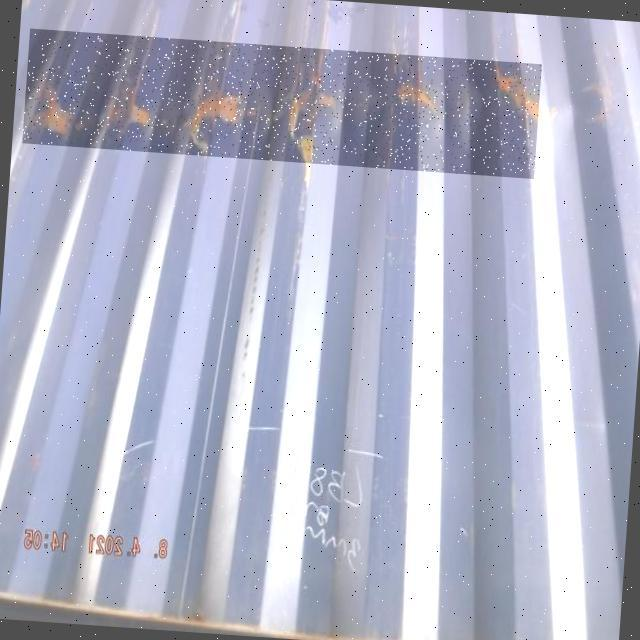Minor-Dent: (22, 29, 542, 179)
